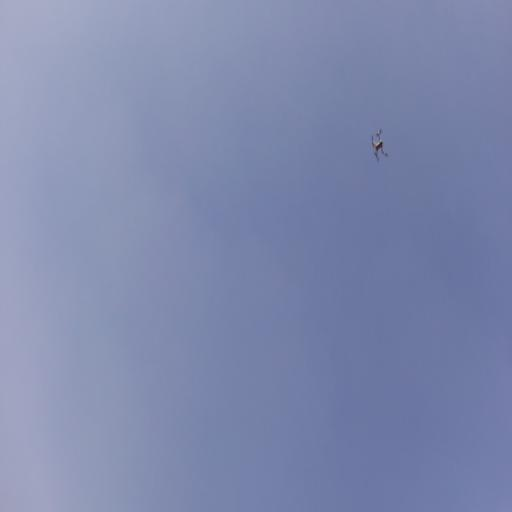drones: (369, 127, 390, 166)
